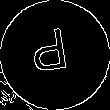P_S: (33, 27, 77, 83)
